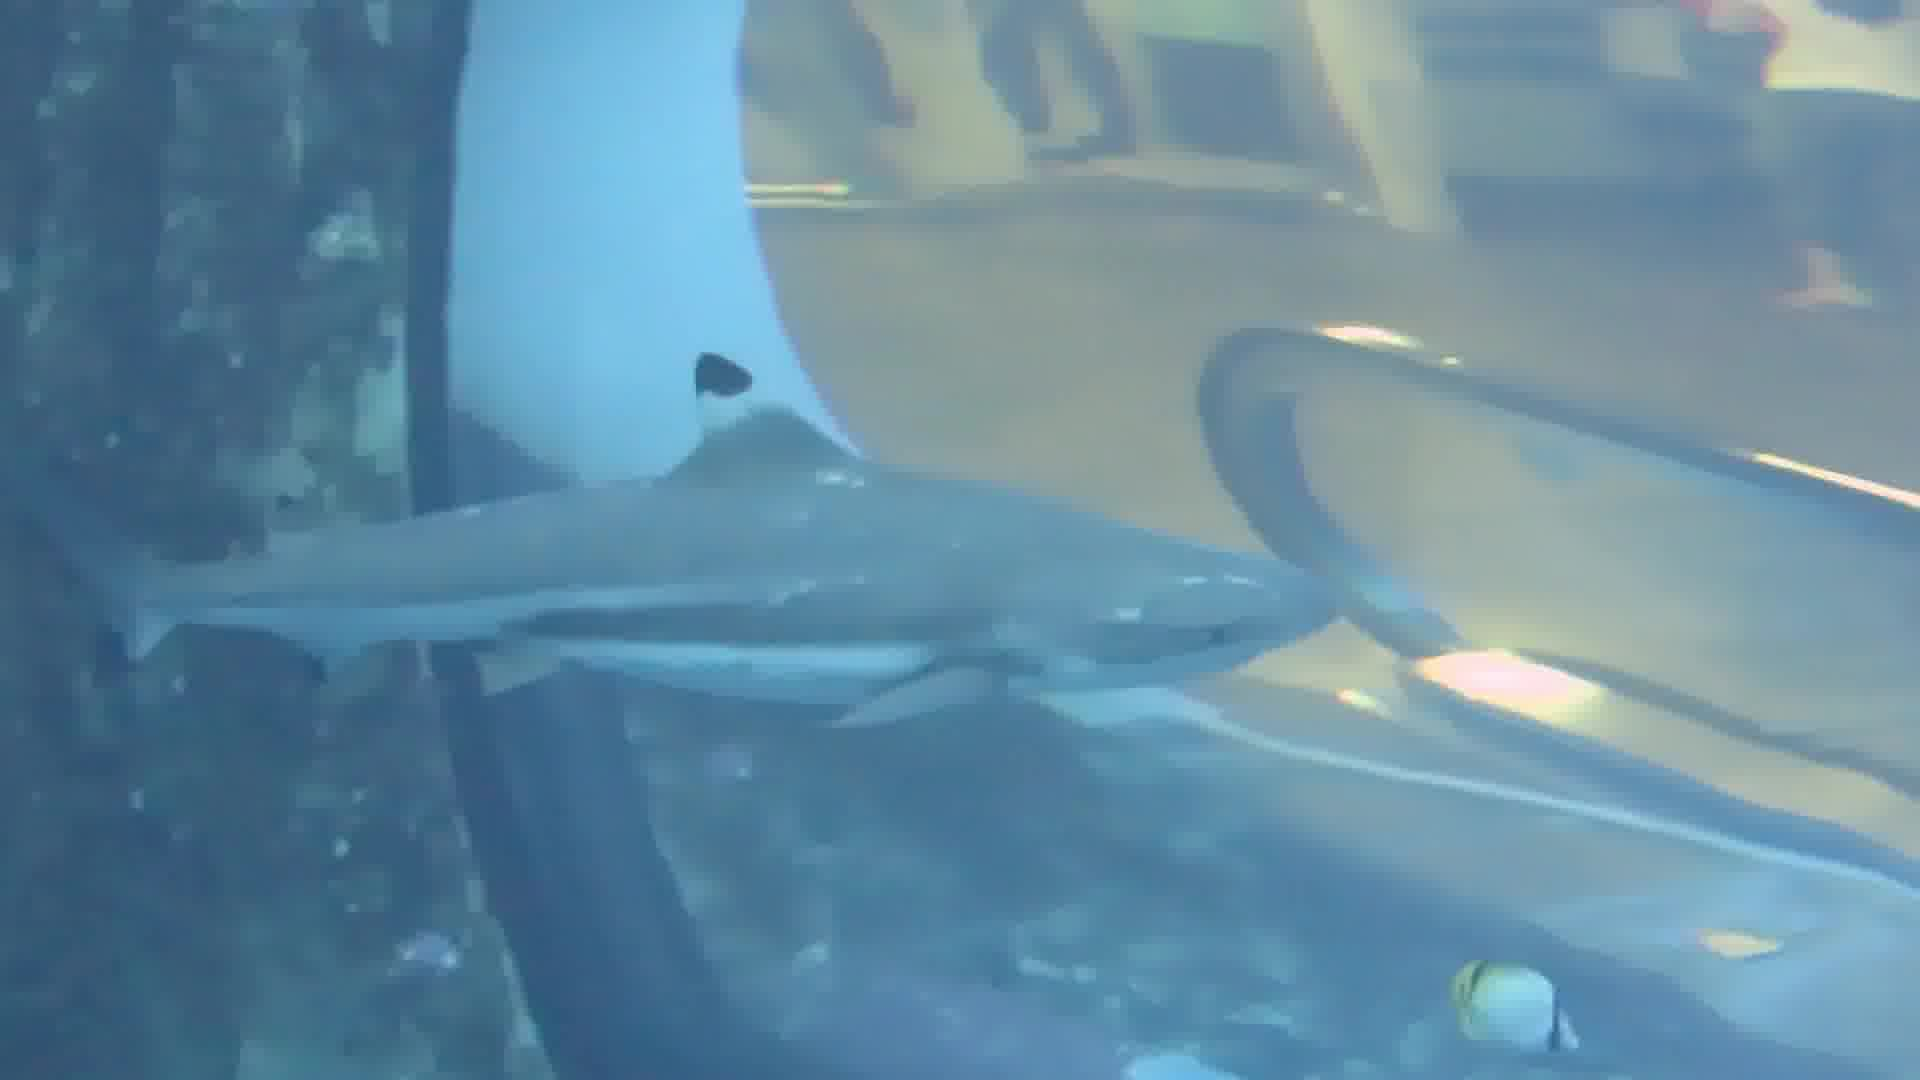Carcharhinus melanopterus: (1, 313, 1378, 774)
